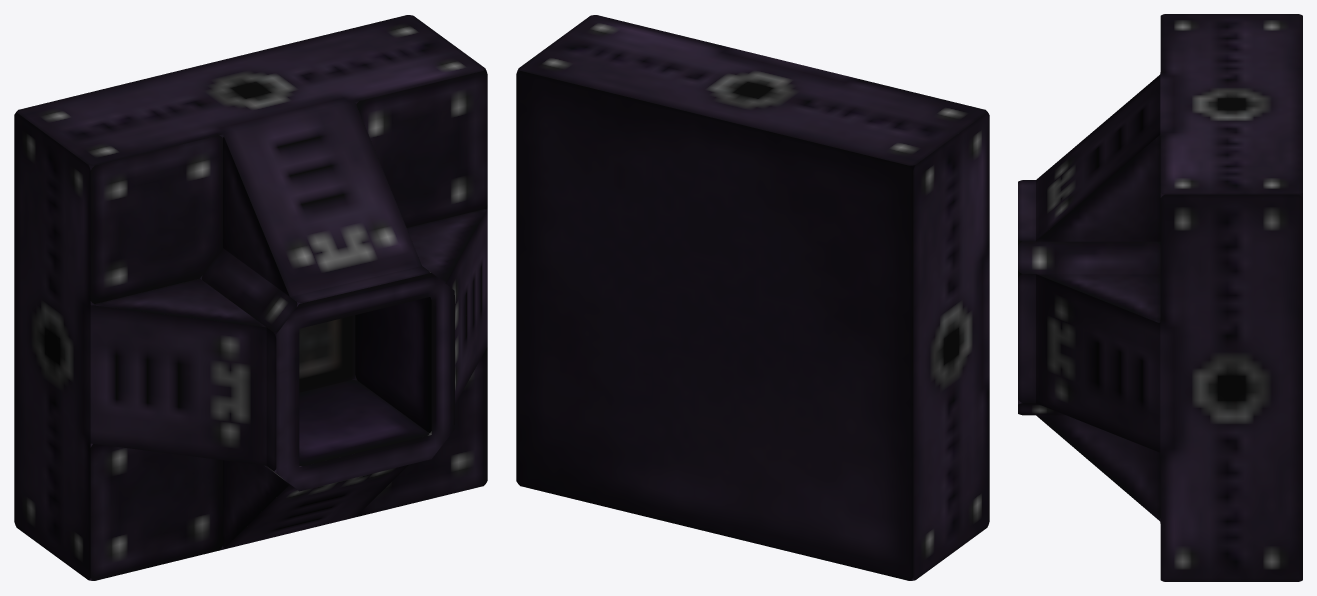
File: adv_furnace_base.obj
3 renders of one model, left to right at view 1: azimuth 30°, elevation 25°; view 2: azimuth 150°, elevation 25°; view 3: azimuth 270°, elevation 25°, orthographic. The views are drawn at different scales.
Visible parts, largest first — view 1: Base; view 2: Base; view 3: Base.
Boxes of the visible parts, left/top/right/bottom form: Base: left=14, top=15, right=487, bottom=580; Base: left=516, top=15, right=989, bottom=580; Base: left=1018, top=14, right=1302, bottom=581.
Size of the model in its own units: 3 by 3 by 2.
